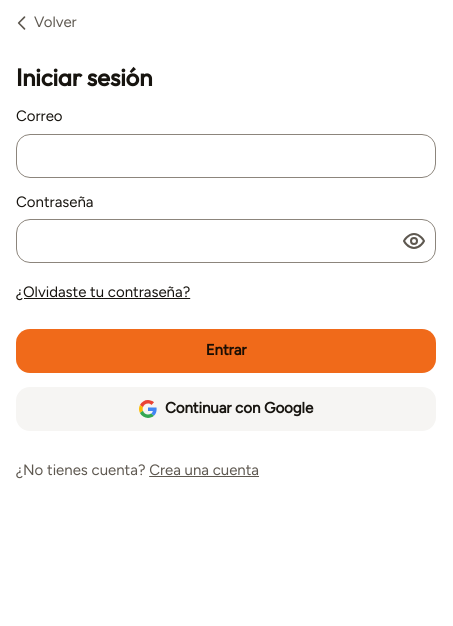
Scenario: iniciar sesión › si el correo o la contraseña no coinciden lo dice y deja el formulario
Type "ana@correo.co" into the field labelled "Correo" at (226, 156), box [16,134,436,178]
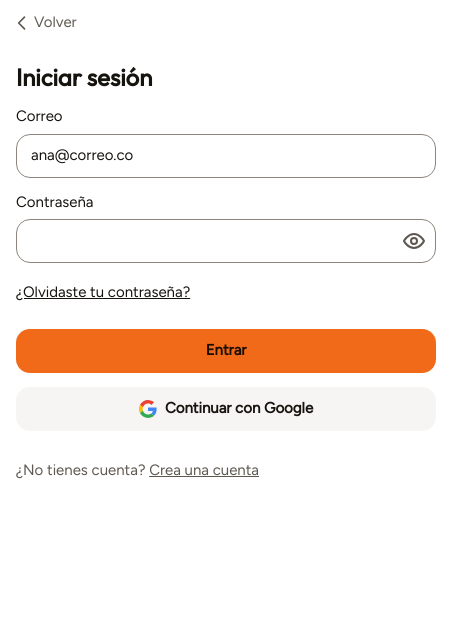
Type "otra clave larga" into the password field labelled "Contraseña" at (226, 241), box [16,219,436,263]
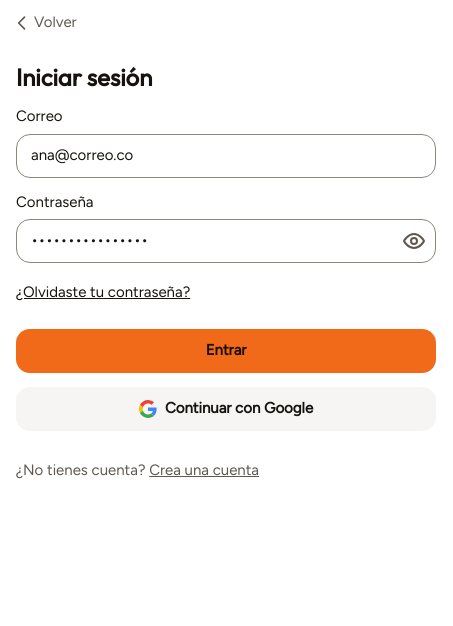
Click the button "Entrar" at (226, 351), box [16,329,436,373]
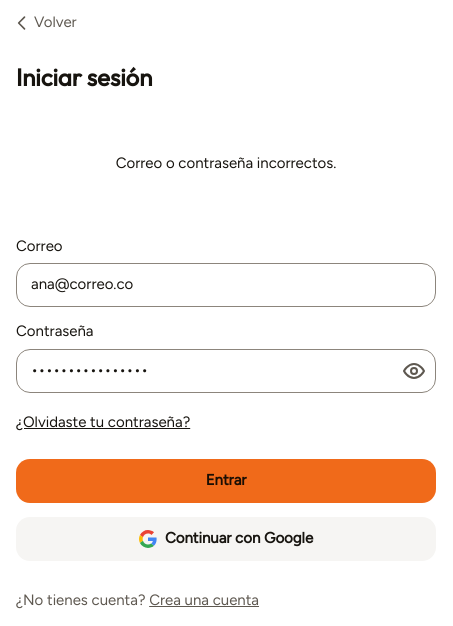
Expected: the message reads "Correo o contraseña incorrectos.", [116,154,336,172]
